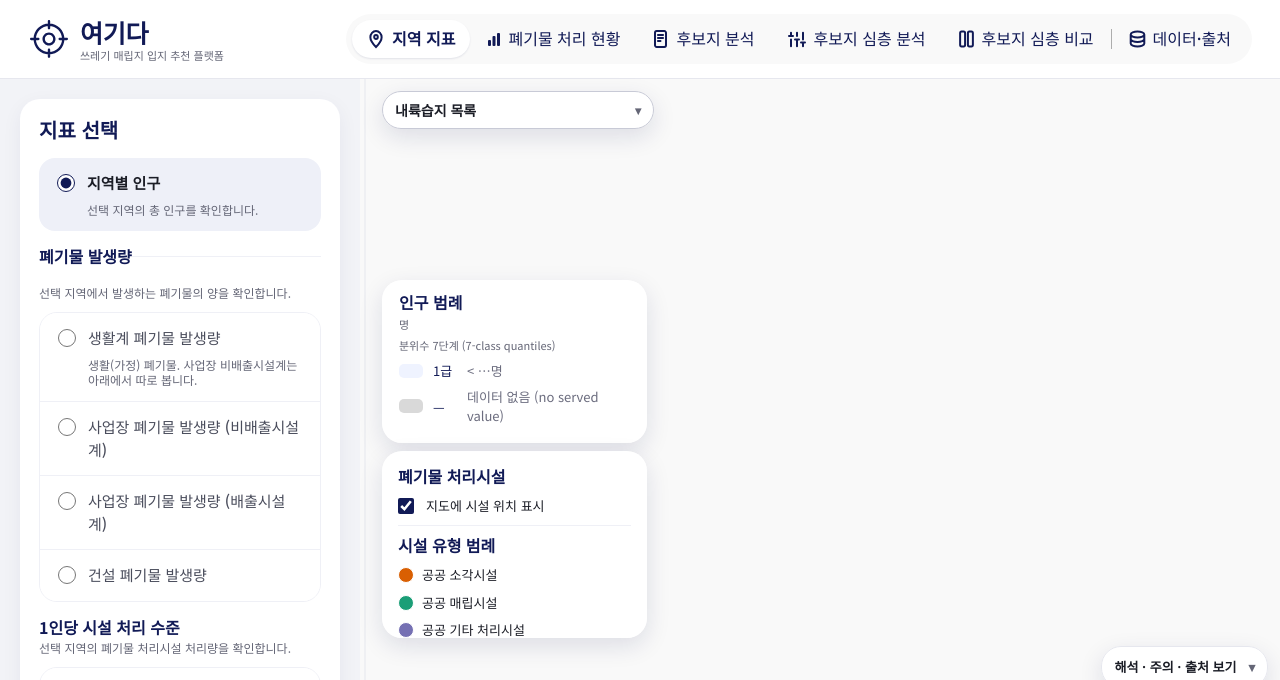
Test: Phase 0 — the screening limitation is carried in every suitability sub-view › moves the disclaimer into 계산 방법과 한계 in 비용 살펴보기, without dropping it
Click the button with test id "mode-suitability": (856, 39) [772,20,941,58]
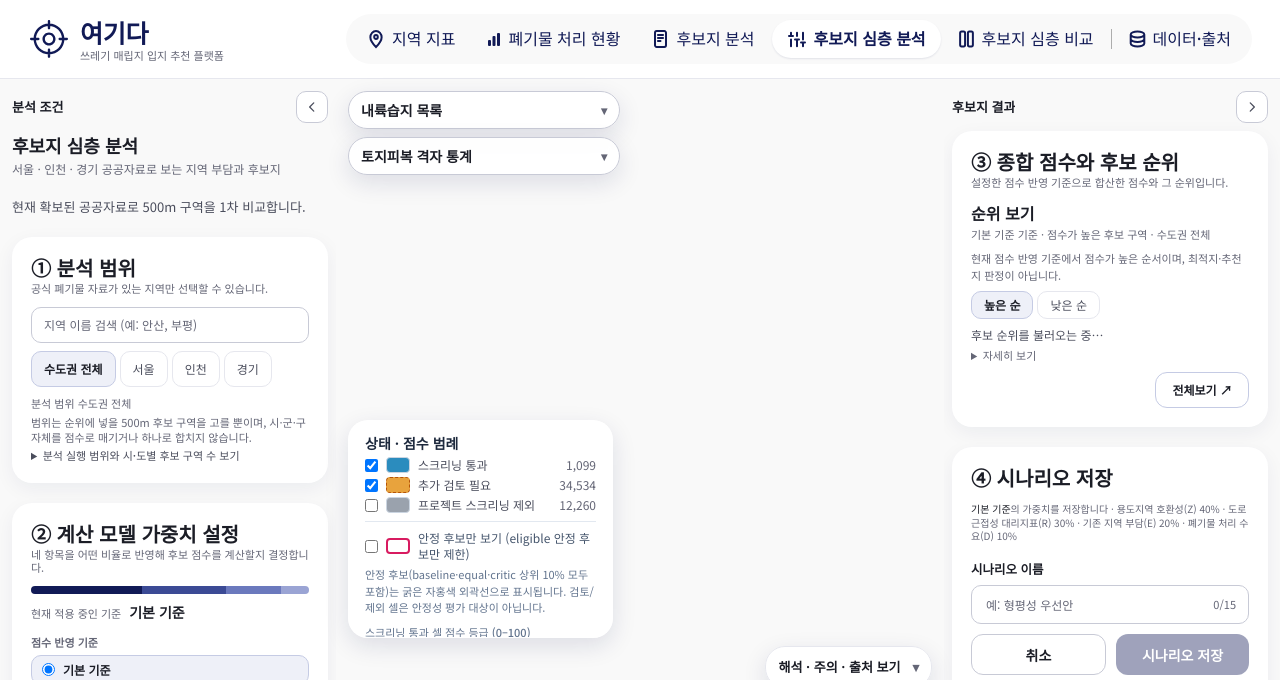
Click the button with test id "suitability-view-cost": (704, 39) [638,20,770,58]
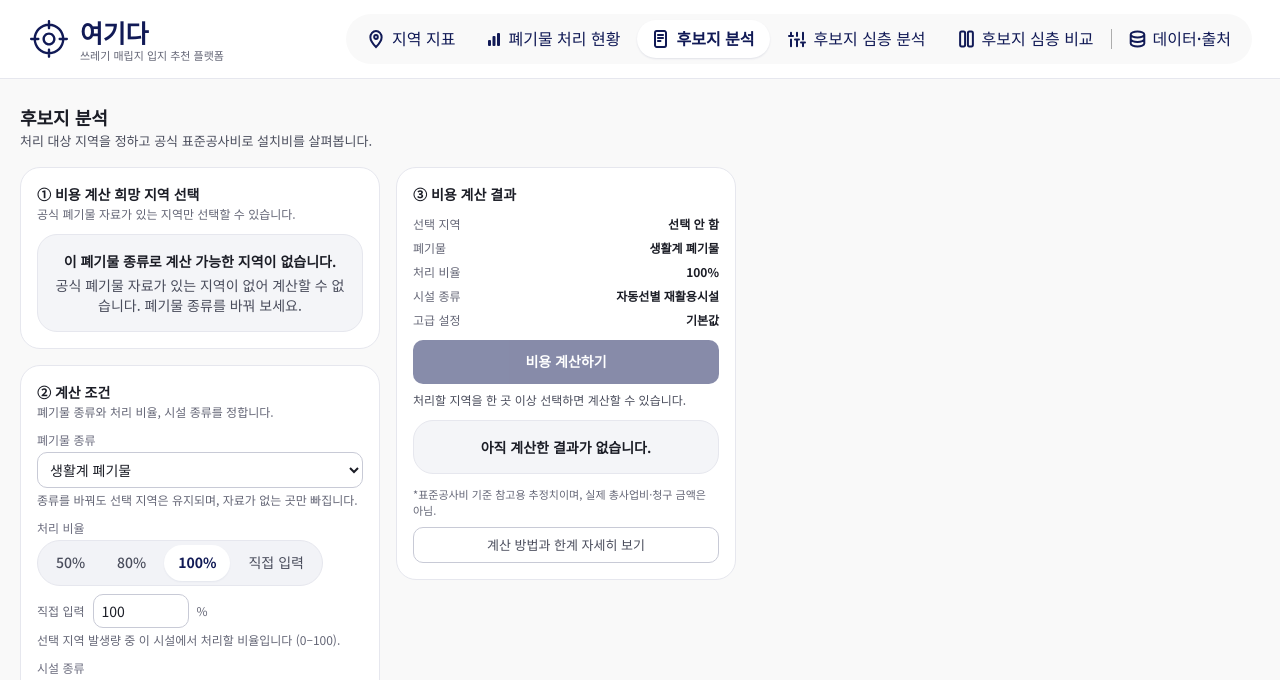
Check: the text with test id "facility-cost-result-footnote" shows "표준공사비 기준 참고용 추정치", box [413,486,706,518]
Click the button with test id "facility-cost-open-details": (566, 544) [413,526,719,562]
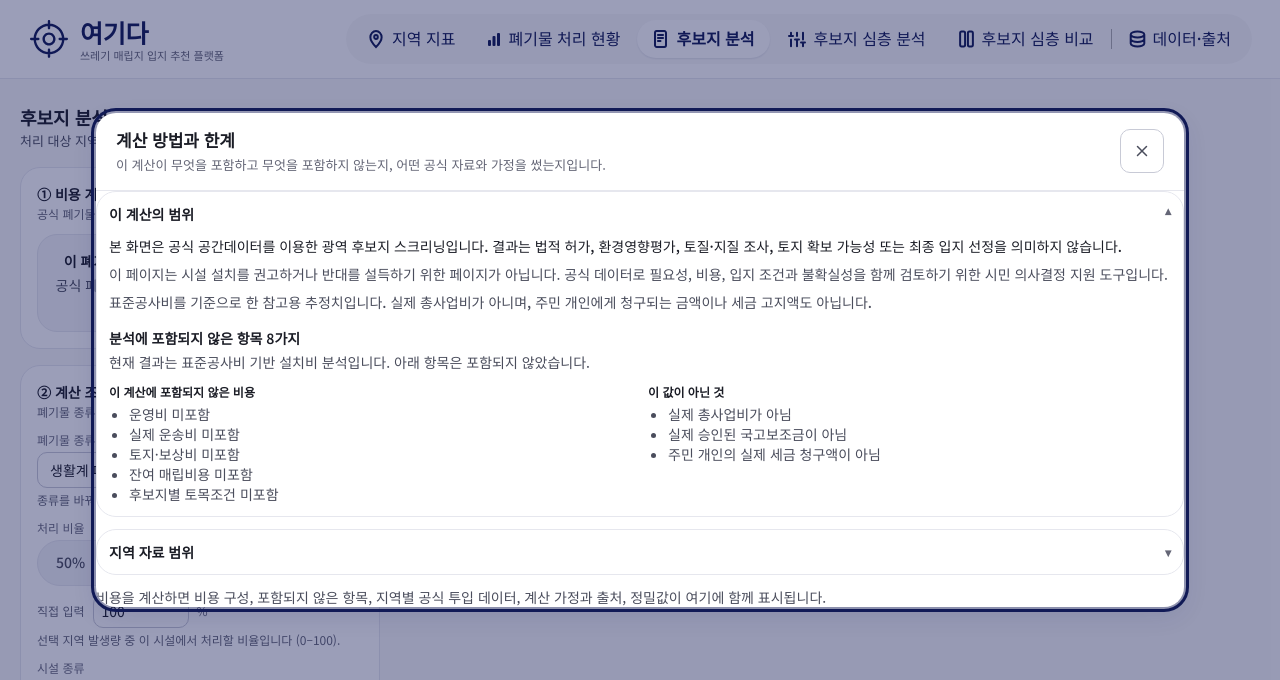
Check: the element with test id "facility-cost-notice" is shown, box [109,236,1171,504]
Check: the element with test id "facility-cost-notice" shows "광역 후보지 스크리닝", box [109,236,1122,256]
